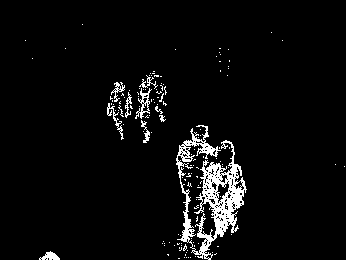person: (175, 122, 218, 253), (204, 139, 247, 252), (138, 72, 168, 144), (108, 81, 132, 140)
